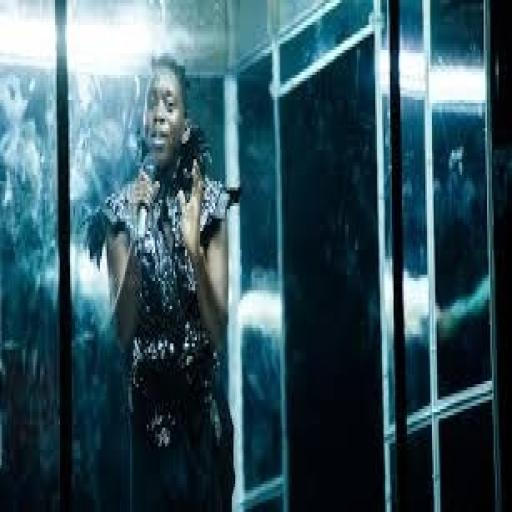dancing: (83, 50, 242, 509)
